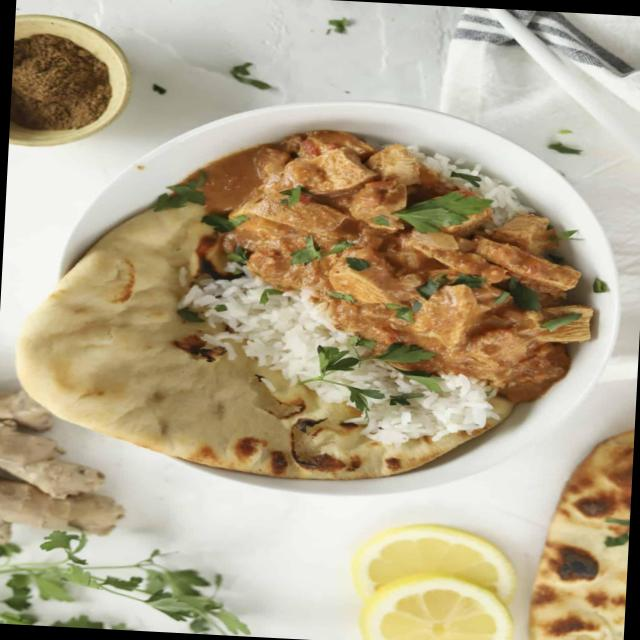chicken: (234, 136, 593, 394)
rice: (320, 352, 500, 450)
roti: (37, 304, 312, 486), (530, 426, 635, 640)
